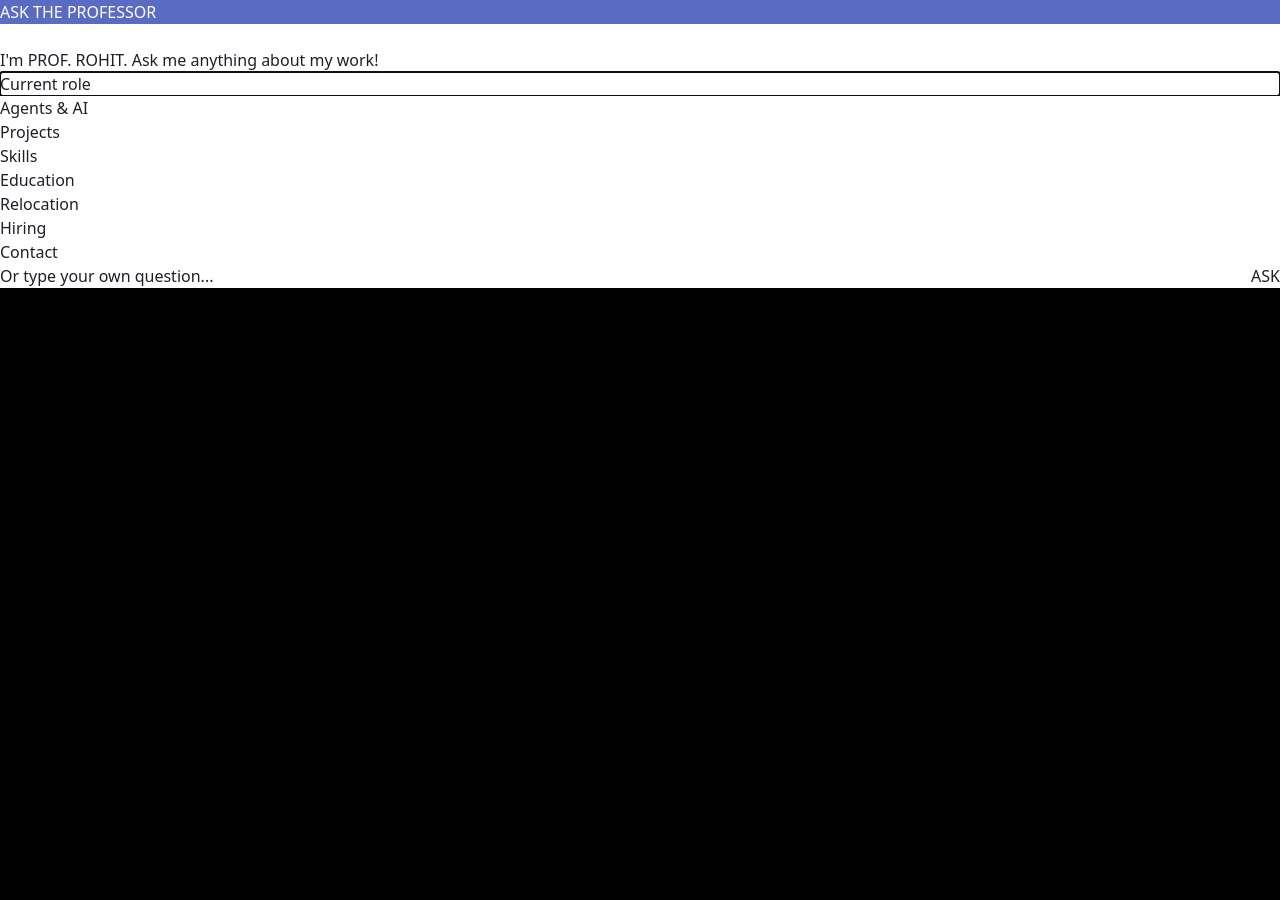
Test: ASK THE PROFESSOR › matches typed questions, and admits when it has no notes
Type "Are you open to relocating?" into the field named "Ask your own question".
click(626, 276); type("Are you open to relocating?")  # box [0,264,1251,288]
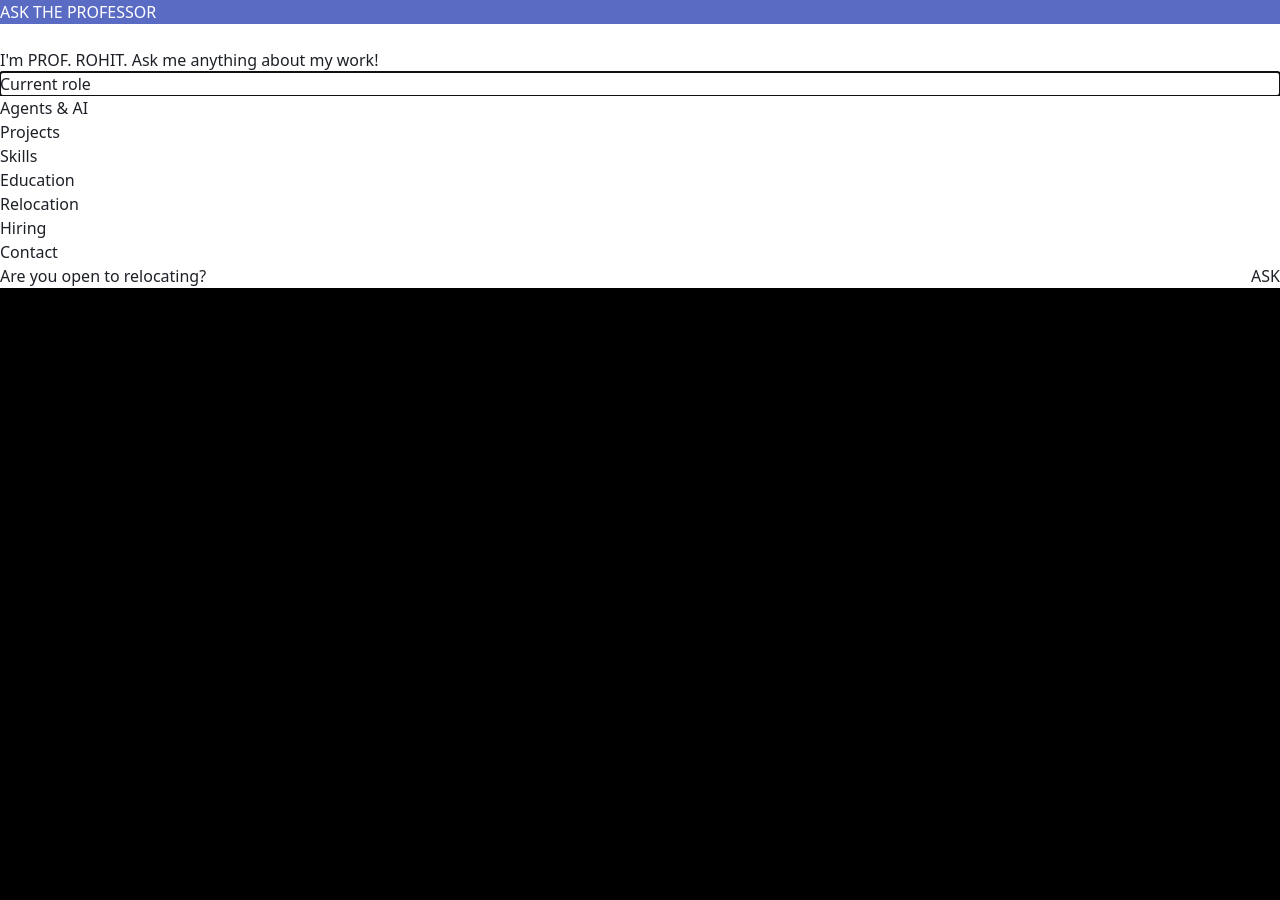
Click the button "ASK".
click(1266, 276)  # box [1251,264,1279,288]
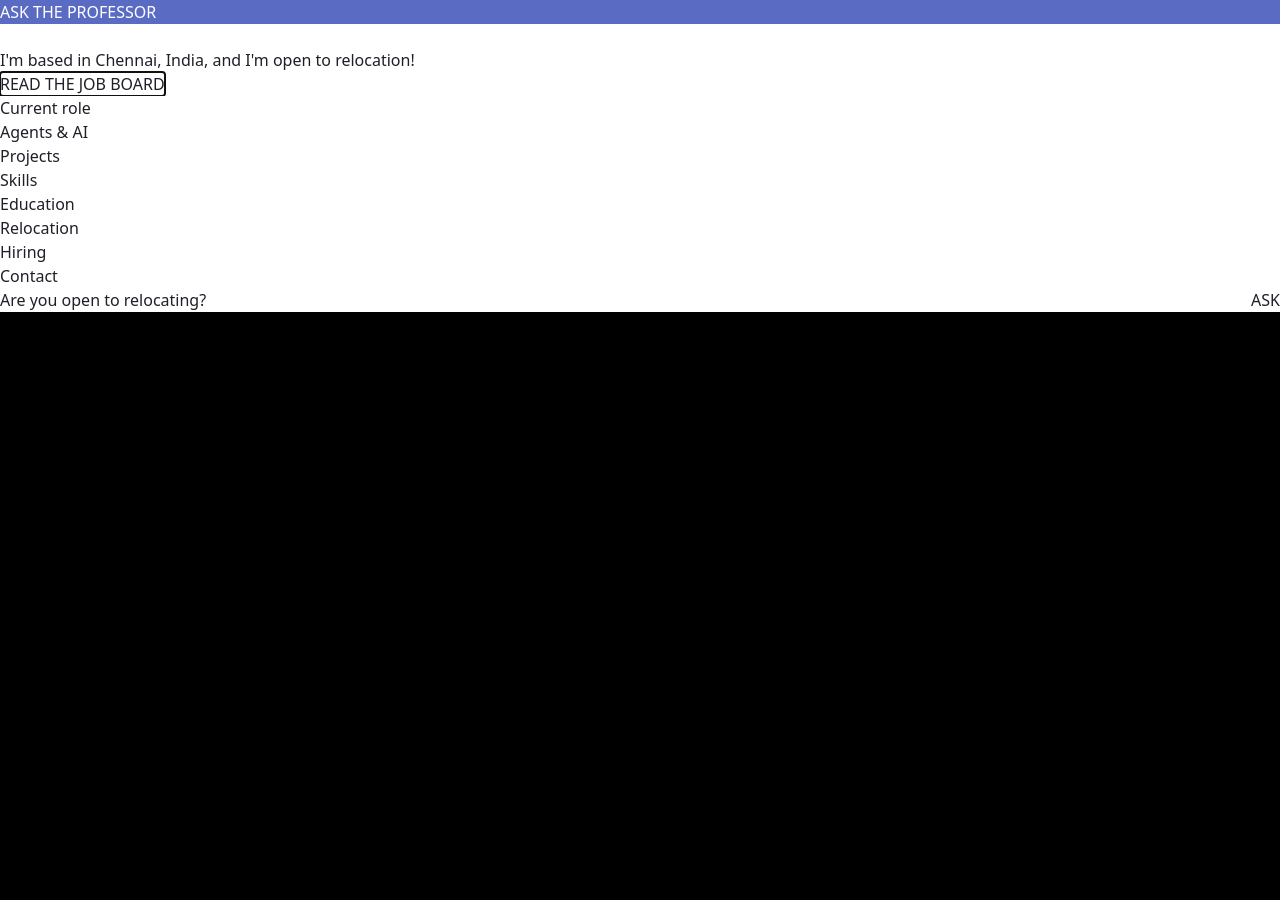
Check: the text "I'm based in Chennai, India, and I'm open to relocation!" is shown, box [0,49,415,71]
Replace the text in the field named "Ask your own question" with "What's your favourite colour?" at (626, 300), box [0,288,1251,312]
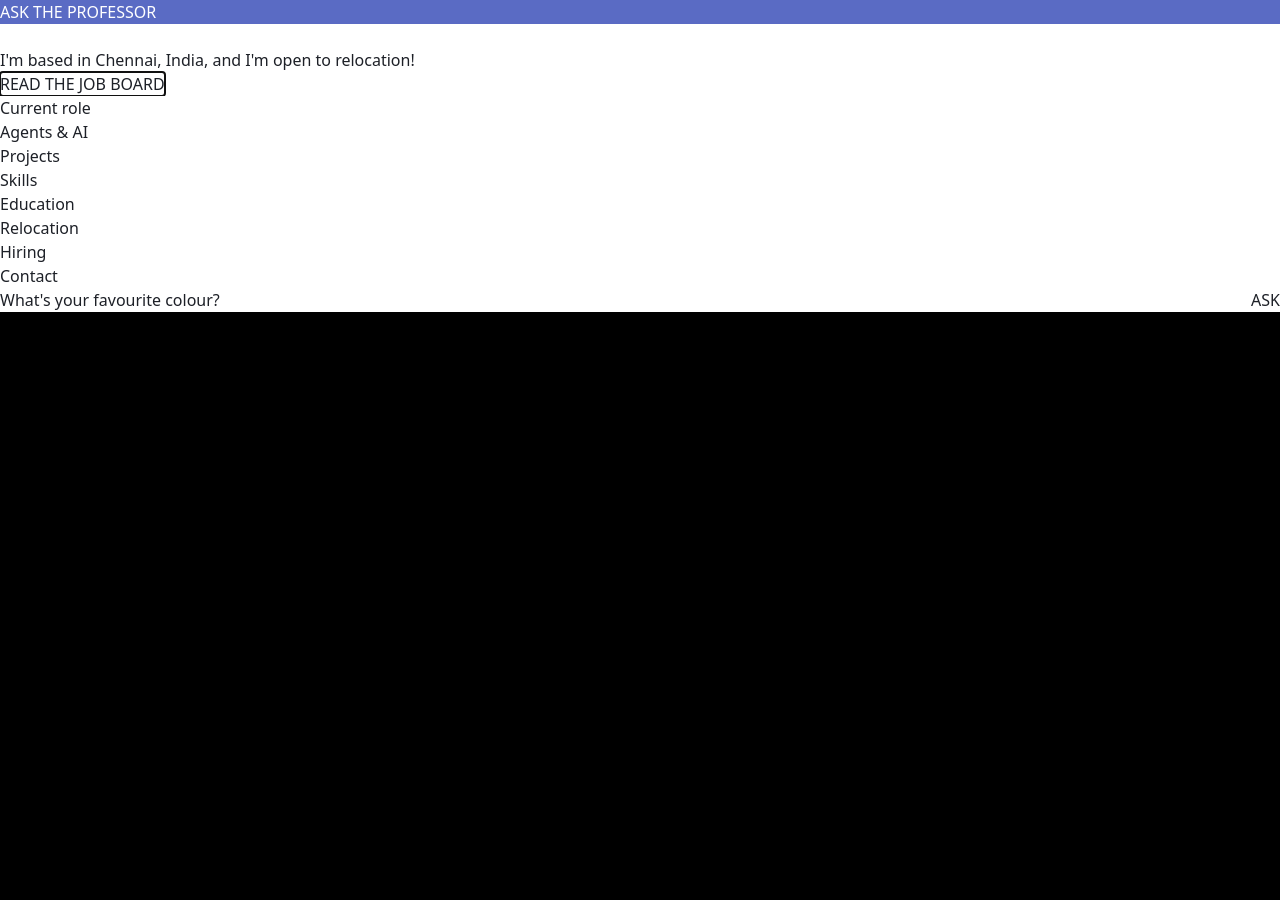
Click the button "ASK".
click(1266, 300)  # box [1251,288,1279,312]
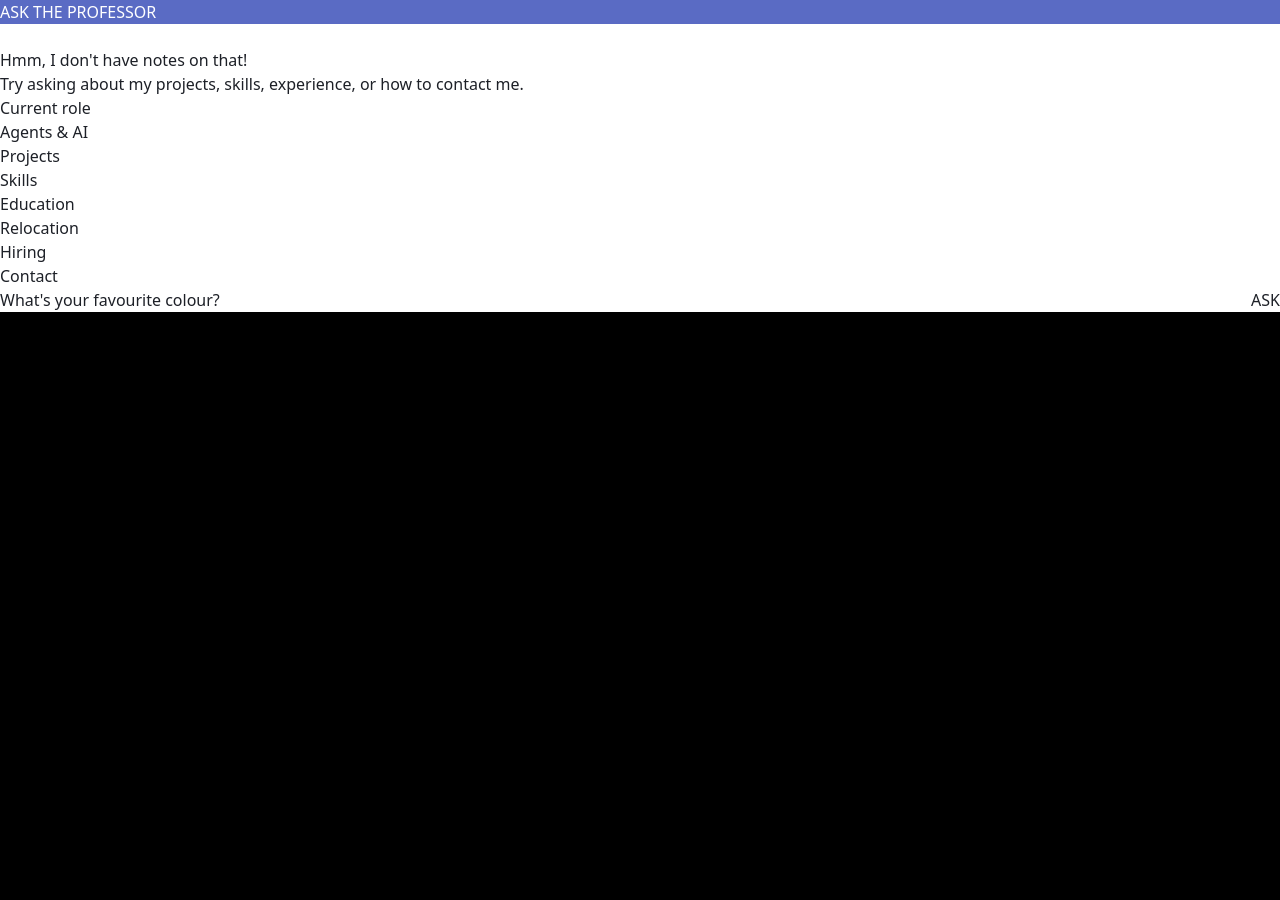
Check: the text "Hmm, I don't have notes on that!" is shown, box [0,49,247,71]
Check: the button "READ THE JOB BOARD" is gone
